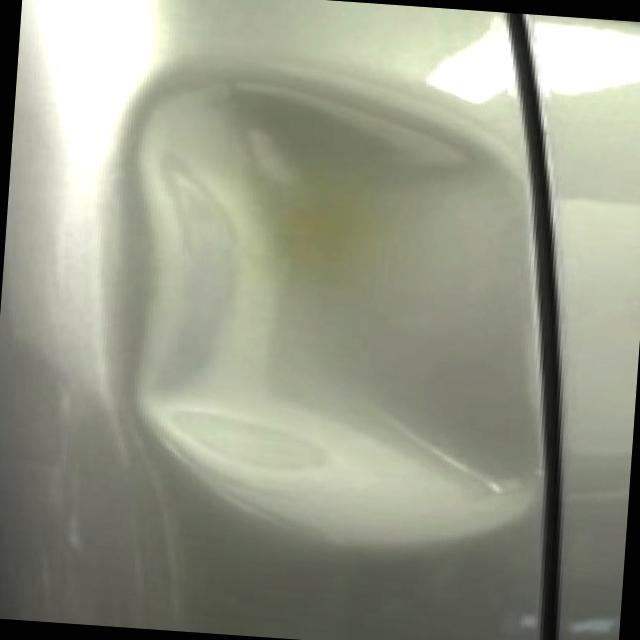dent: (106, 64, 574, 567)
